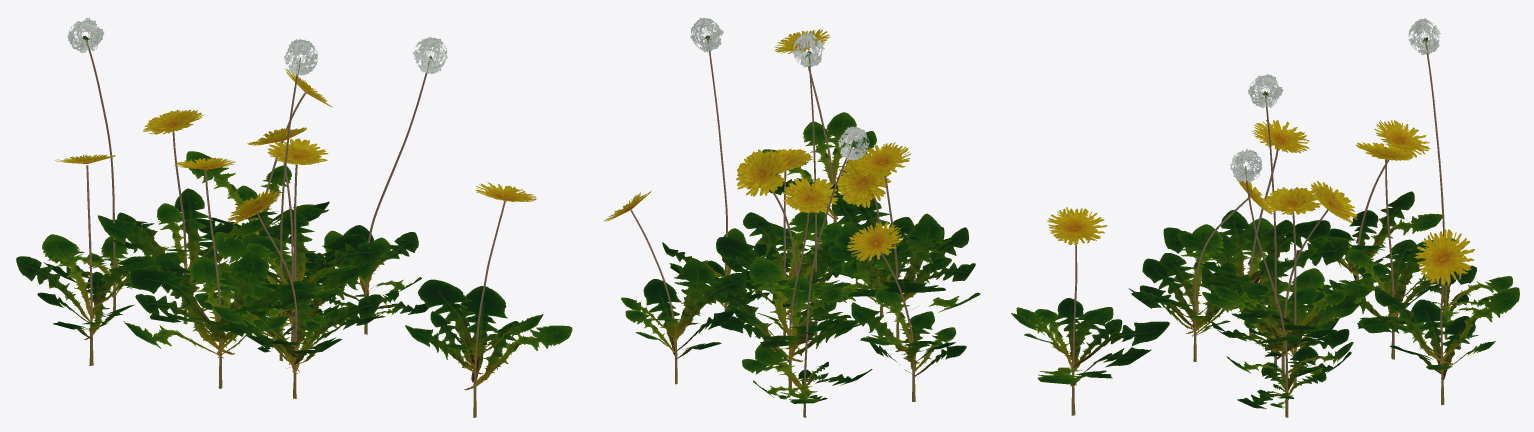
The picture shows the model from 3 angles, left to right: view 1: azimuth 30°, elevation 25°; view 2: azimuth 150°, elevation 25°; view 3: azimuth 270°, elevation 25°; orthographic projection. The views are drawn at different scales.
Parts seen in each view (by area): view 1: SM_Dandelion_01_LOD0; view 2: SM_Dandelion_01_LOD0; view 3: SM_Dandelion_01_LOD0.
Part boxes in pixels (bbox=[...]): SM_Dandelion_01_LOD0: bbox=[16, 17, 572, 417]; SM_Dandelion_01_LOD0: bbox=[604, 18, 980, 417]; SM_Dandelion_01_LOD0: bbox=[1011, 18, 1519, 417].
Size of the model in its own units: 0.8665 by 0.7178 by 1.07.
Materials: 1 (1 with a texture image).
